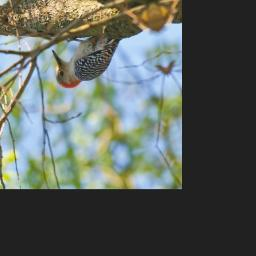Woodpecker: (43, 18, 138, 105)
